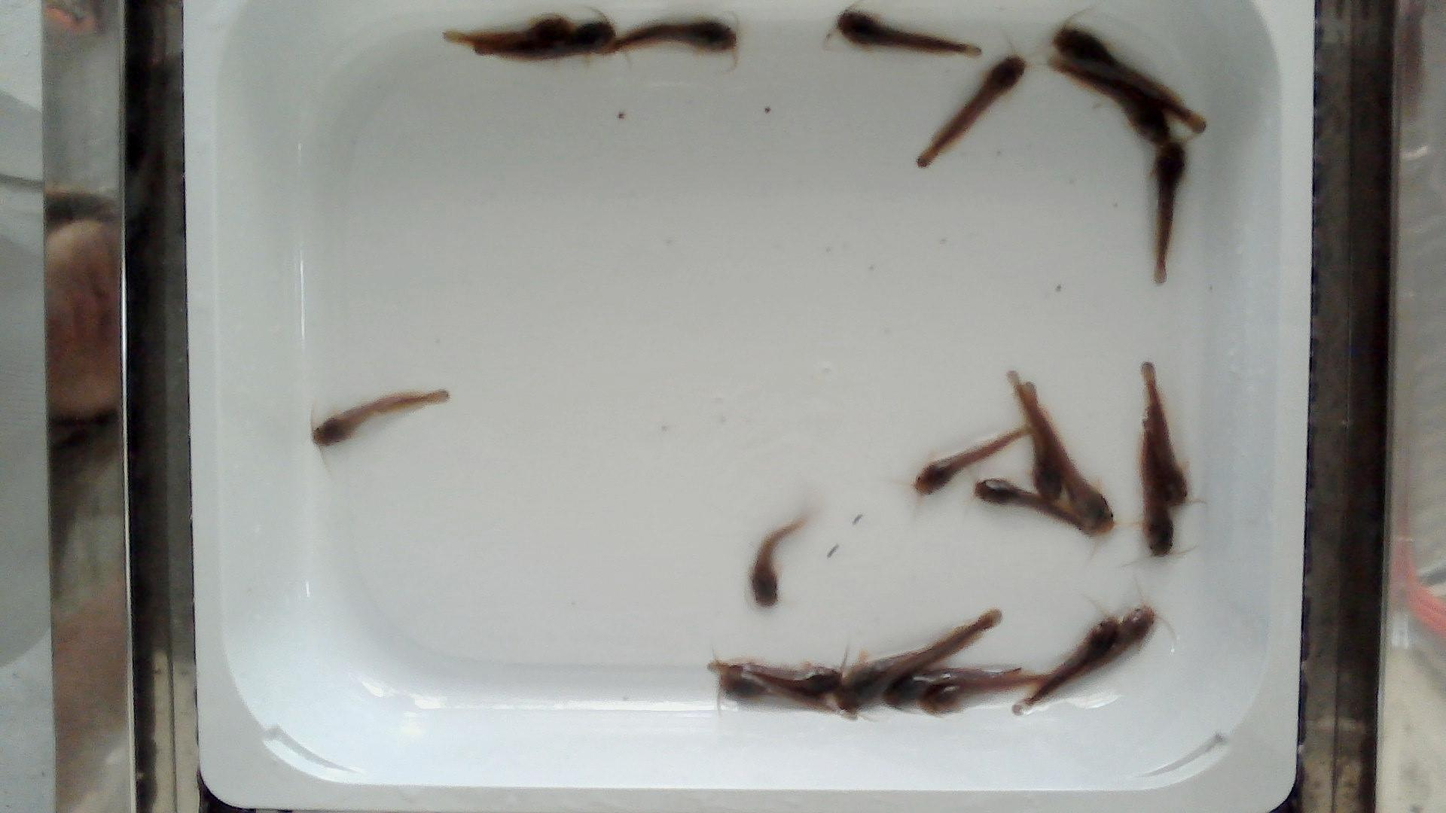lele: (823, 610, 1003, 711), (1054, 25, 1208, 132), (1022, 381, 1114, 538), (917, 55, 1025, 167), (1053, 56, 1172, 148), (1020, 614, 1119, 714), (313, 389, 450, 446), (914, 426, 1026, 495), (1139, 361, 1190, 507), (1009, 369, 1064, 501), (835, 10, 981, 56), (719, 672, 857, 719), (973, 479, 1090, 534), (749, 510, 812, 607), (475, 18, 613, 56), (886, 667, 1023, 703), (1152, 143, 1187, 283), (1141, 418, 1175, 557), (917, 675, 1039, 712), (1088, 606, 1157, 671), (603, 21, 735, 53), (715, 663, 844, 695), (444, 16, 573, 47)
